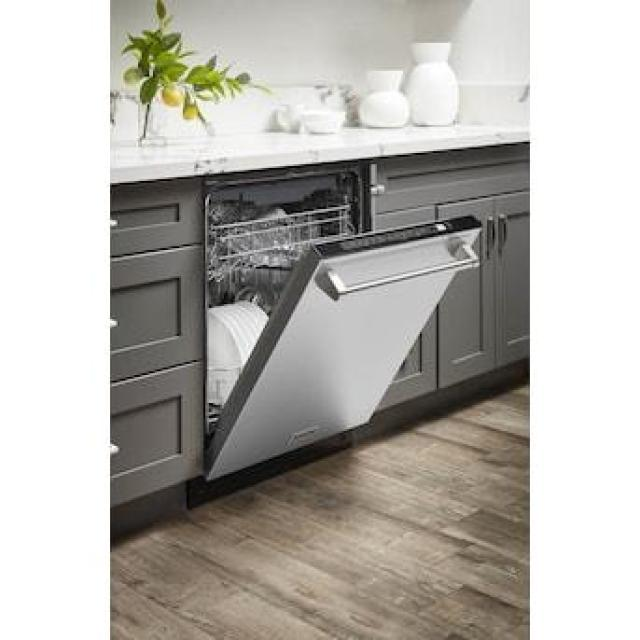dishwasher: (195, 170, 482, 498)
